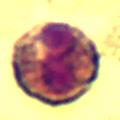lymphocyte: (11, 21, 100, 104)
